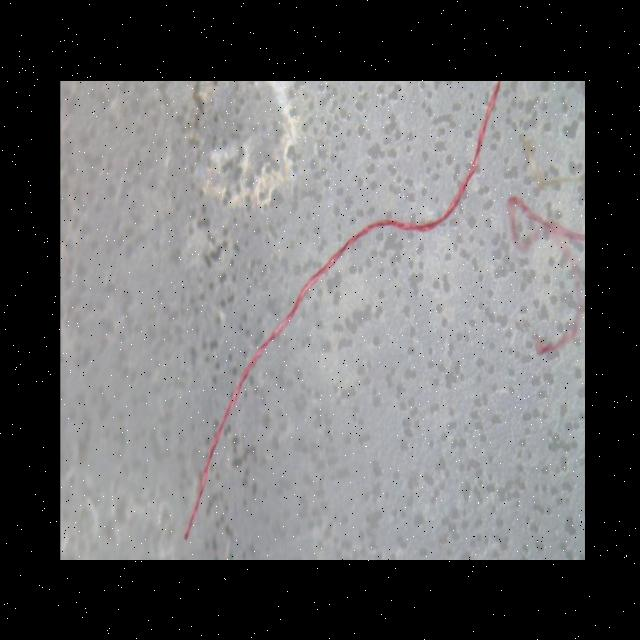Fibre: (182, 80, 502, 542)
